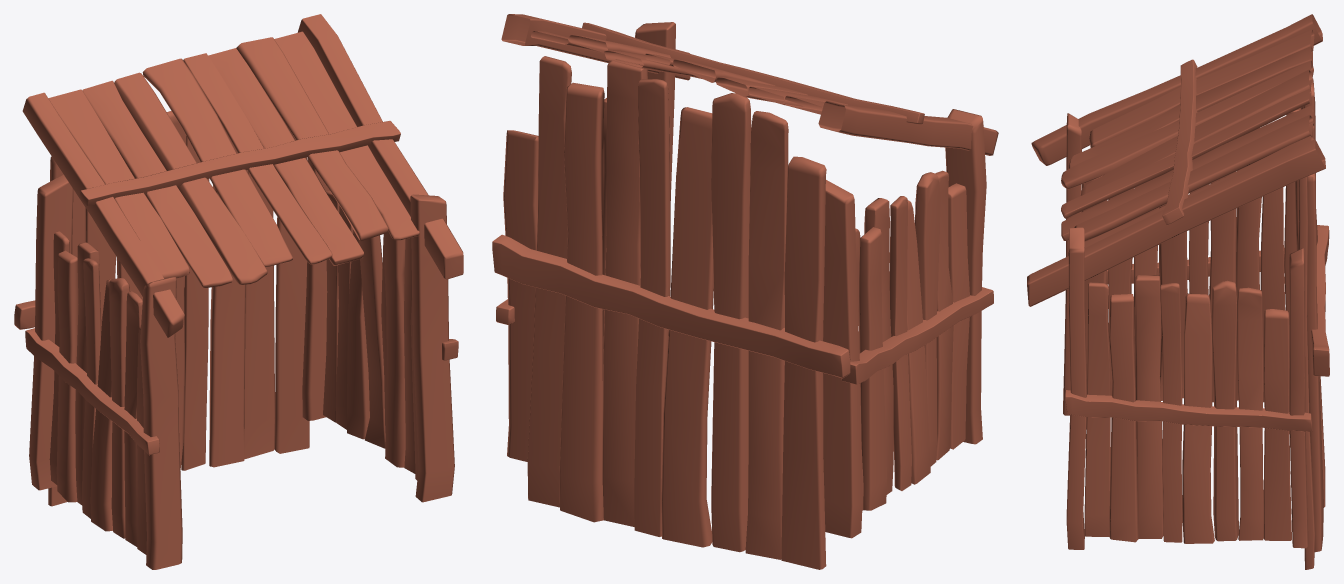
File: prop_shed_01.FBX
The picture shows the model from 3 angles, left to right: view 1: azimuth 30°, elevation 25°; view 2: azimuth 150°, elevation 25°; view 3: azimuth 270°, elevation 25°; orthographic projection. The views are drawn at different scales.
Visible parts, largest first — view 1: prop_shed_01_LOD0; view 2: prop_shed_01_LOD0; view 3: prop_shed_01_LOD0.
Boxes of the visible parts, box(x1,y1,x2,y2) form: prop_shed_01_LOD0: box(14, 14, 463, 569); prop_shed_01_LOD0: box(492, 14, 998, 569); prop_shed_01_LOD0: box(1027, 14, 1329, 569).
Size of what is drawn, in the model's own units: 1982 by 2561 by 1636.
